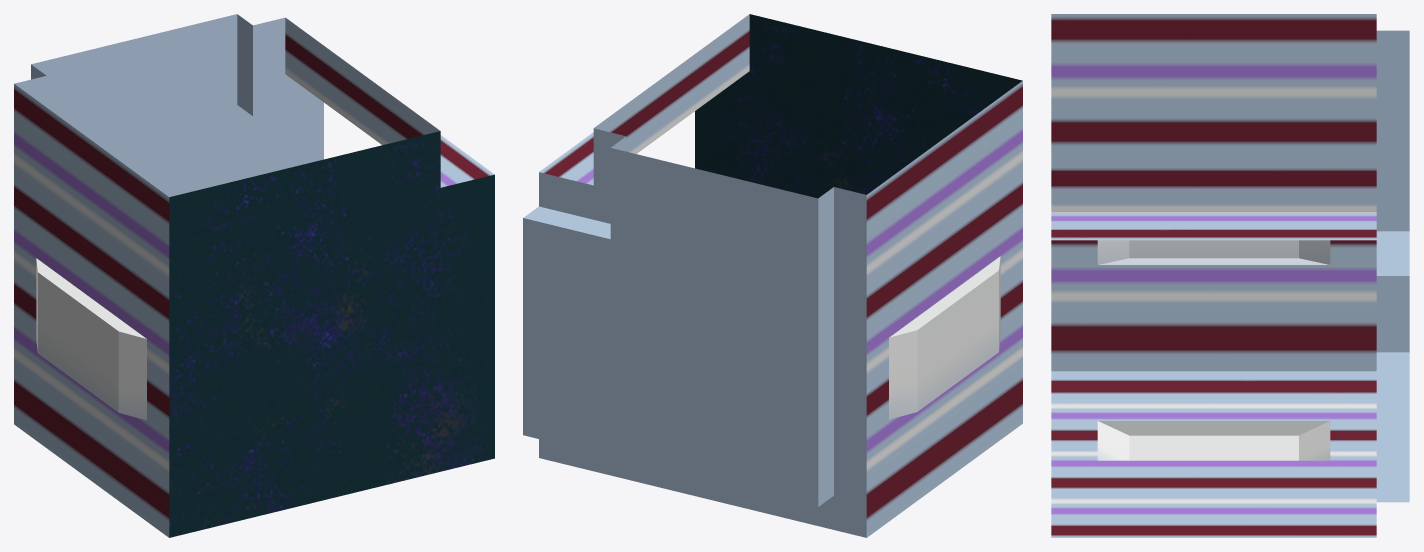
The model's file is Hall_Corner.fbx.
3 views of the same model, side by side, from view 1: azimuth 30°, elevation 25°; view 2: azimuth 150°, elevation 25°; view 3: azimuth 270°, elevation 25° (orthographic). The views are drawn at different scales.
Parts seen in each view (by area): view 1: Hall_Corner; view 2: Hall_Corner; view 3: Hall_Corner.
Boxes of the visible parts, box(x1,y1,x2,y2) form: Hall_Corner: box(14, 14, 494, 537); Hall_Corner: box(523, 14, 1022, 537); Hall_Corner: box(1051, 14, 1409, 537).
Size of the model in its own units: 250 by 250 by 218.
Materials: 2 (2 with a texture image).
